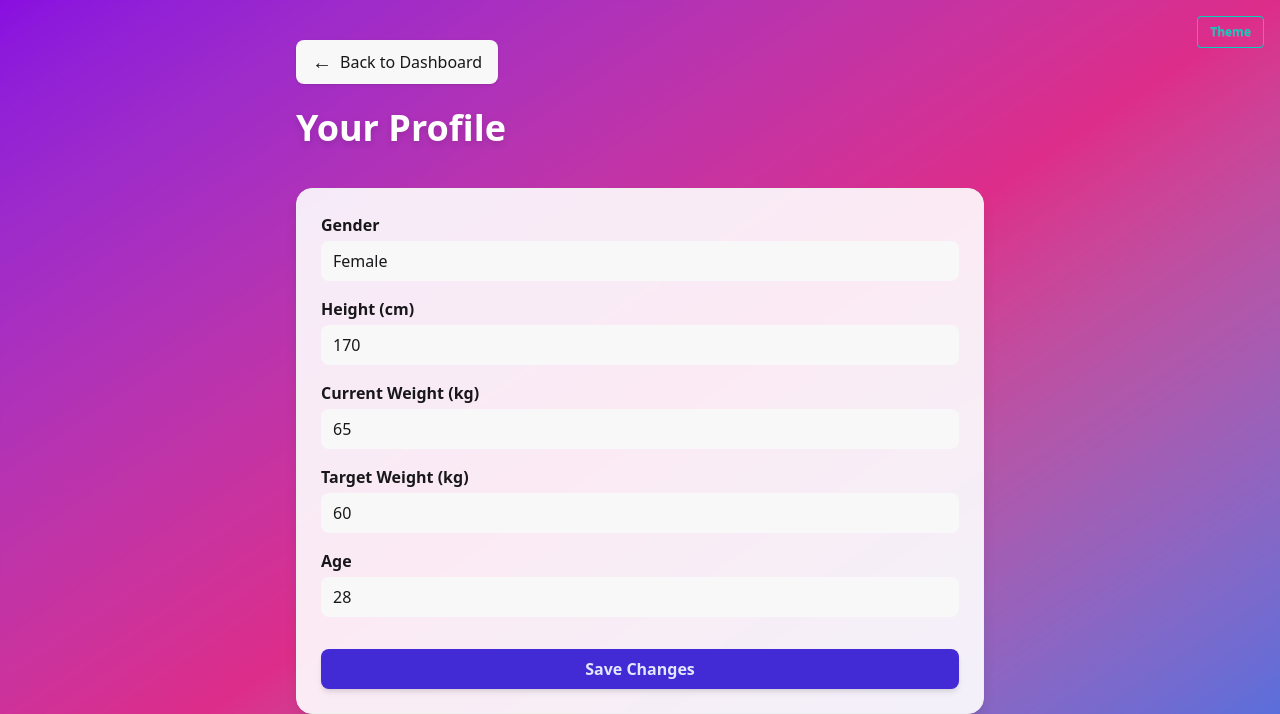
Test case: ProfilePage - 20 Automated UI Tests › 11. Empty height shows error
Clear the number field named "height_cm" below "Height (cm)" at (640, 345), box top-left (321, 325), bottom-right (959, 365)
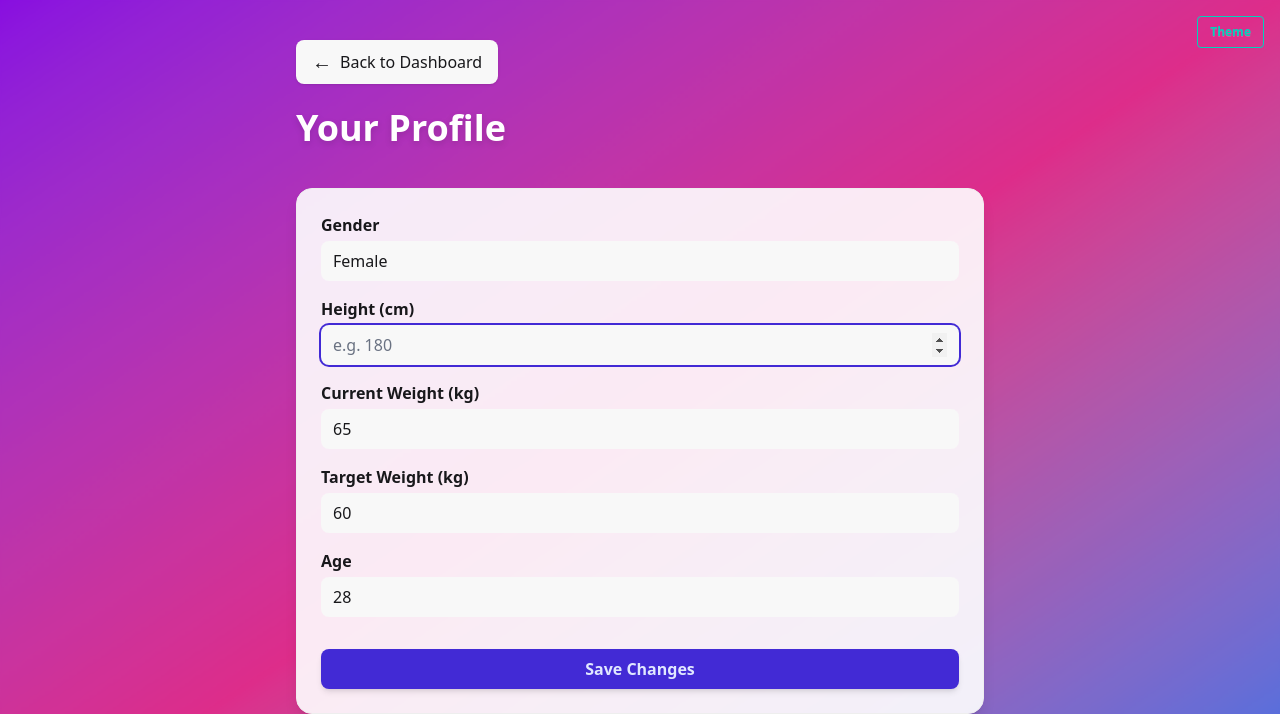
Click the button "Save Changes".
click(640, 669)  # box top-left (321, 649), bottom-right (959, 689)
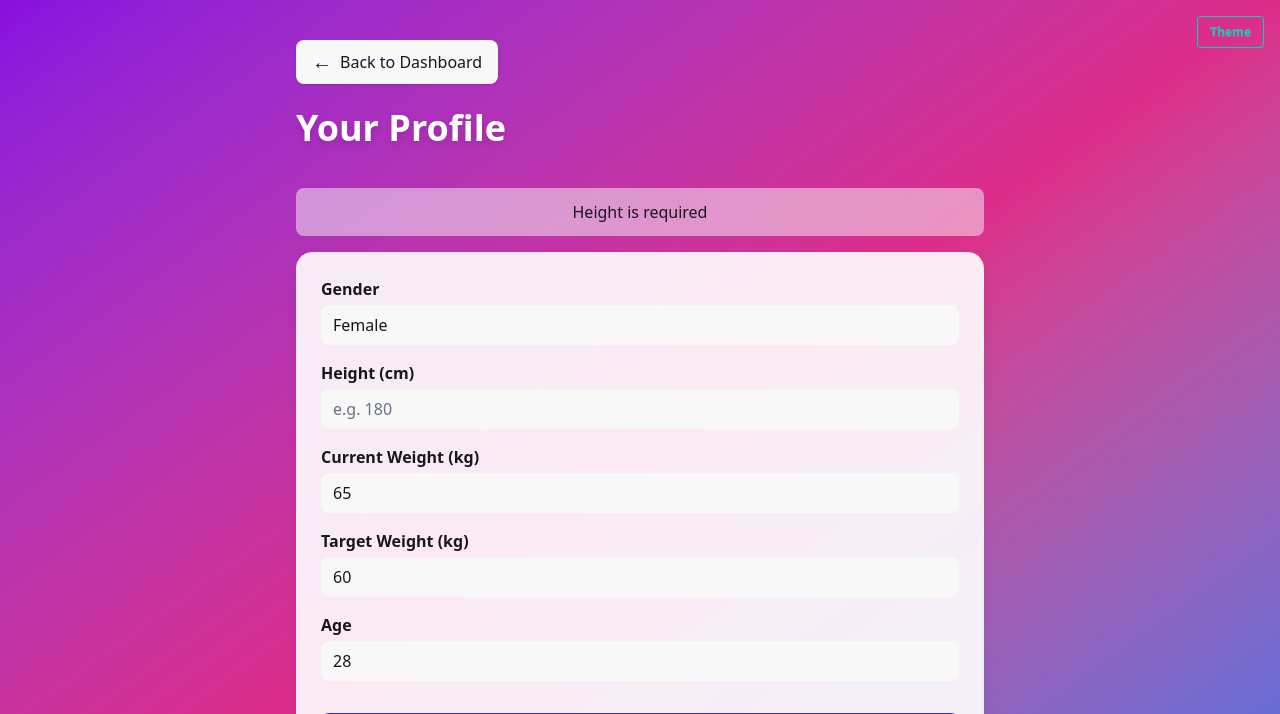
Expected: the text "Height is required" is shown, top-left (296, 188), bottom-right (984, 236)
